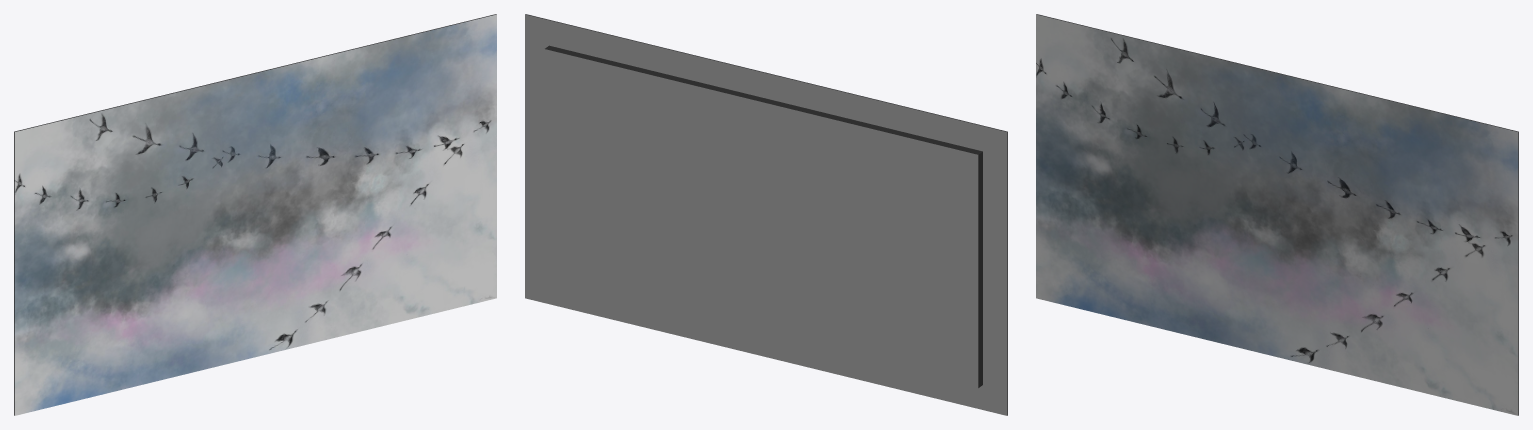
The model's file is hz099_grand_dibond.glb.
3 views of the same model, side by side, from view 1: azimuth 30°, elevation 25°; view 2: azimuth 150°, elevation 25°; view 3: azimuth 330°, elevation 25° (orthographic).
Visible parts, largest first — view 1: hz099_grand_dibond; view 2: hz099_grand_dibond; view 3: hz099_grand_dibond.
Part boxes in pixels (x1,y1,x2,y2): hz099_grand_dibond: (14, 14, 496, 415); hz099_grand_dibond: (525, 14, 1007, 415); hz099_grand_dibond: (1036, 14, 1518, 415).
Bounding box in the file's own units: 1.2 × 0.675 × 0.023.
4 materials, 1 textured.
